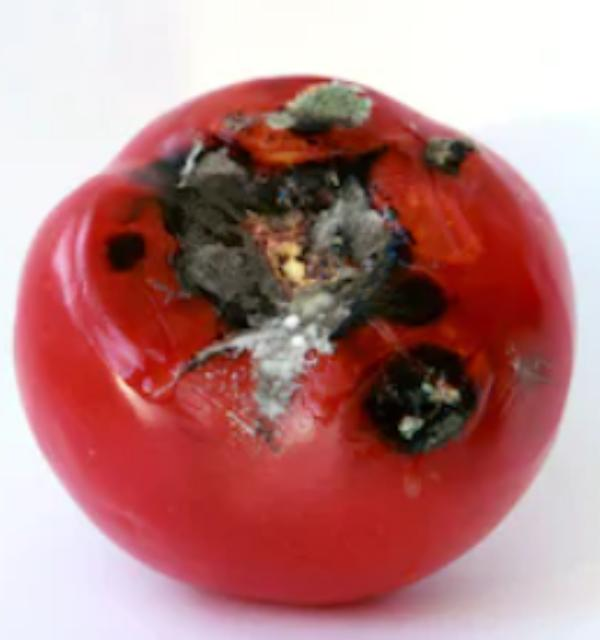defect: (6, 68, 577, 617)
